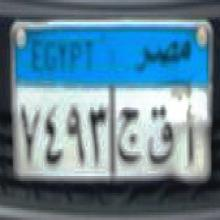3: (88, 102, 109, 166)
4: (43, 102, 64, 172)
7: (20, 100, 40, 170)
9: (66, 104, 86, 174)
alif: (181, 103, 197, 170)
jeem: (115, 97, 141, 172)
qaaf: (148, 102, 174, 169)
